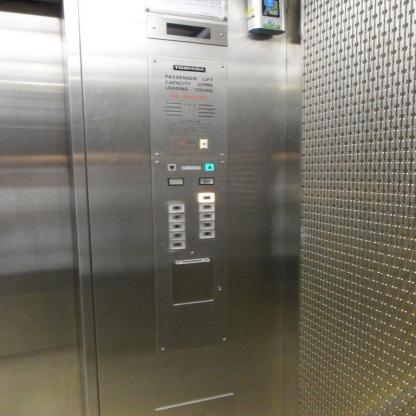1: (168, 240, 184, 249)
10: (199, 221, 214, 229)
11: (199, 212, 214, 219)
12: (198, 203, 213, 211)
13: (198, 192, 214, 202)
5: (168, 231, 185, 240)
6: (168, 222, 184, 231)
7: (168, 213, 185, 222)
8: (168, 202, 184, 212)
9: (199, 230, 215, 238)
DC: (198, 176, 215, 186)
down: (166, 163, 176, 171)
empty: (166, 176, 184, 186)
text: (198, 138, 210, 149)
up: (204, 163, 214, 171)
